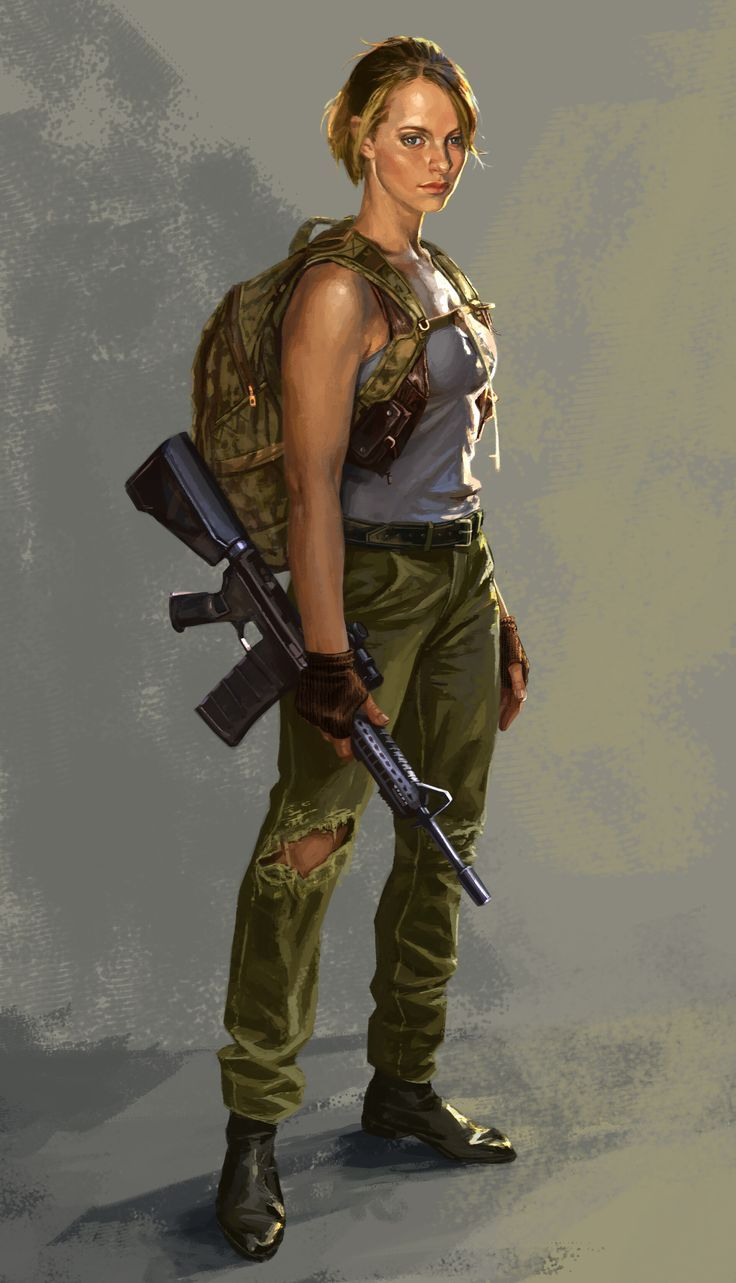human: (172, 46, 530, 1236)
